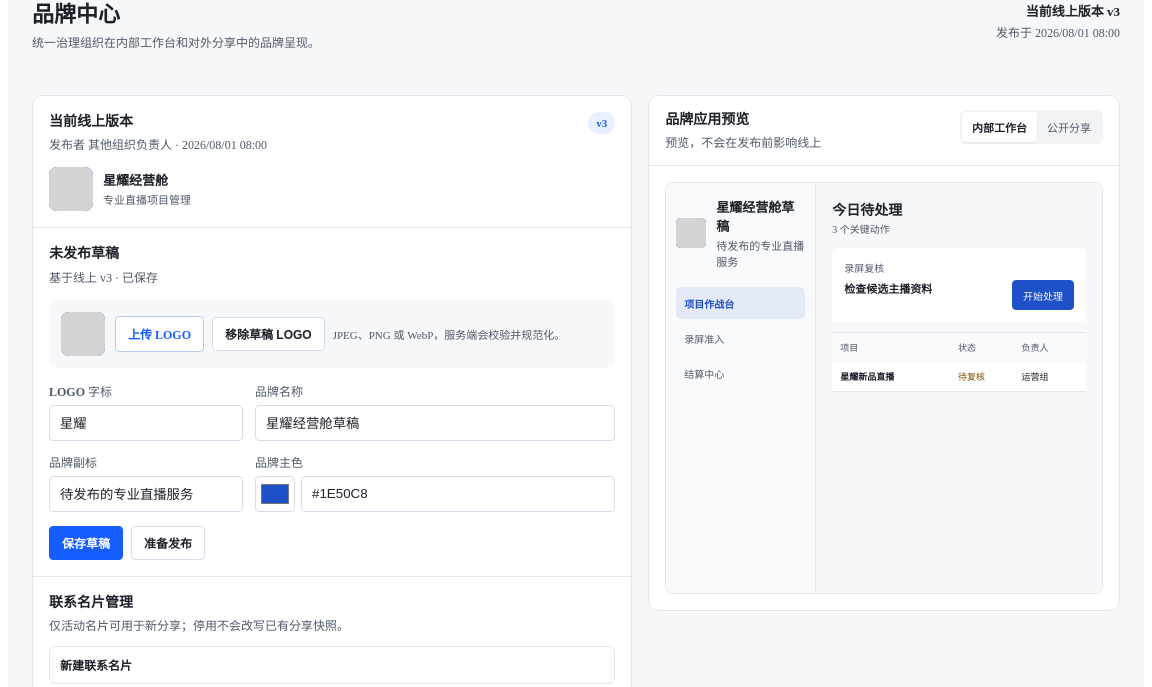
OrganizationBrandCenter › saves the five governed fields and publishes only after the exact inline confirmation
The image size is (1152, 687).
Replace the text in the field labelled "品牌名称" with "已保存草稿": (435, 423) [255,405,615,441]
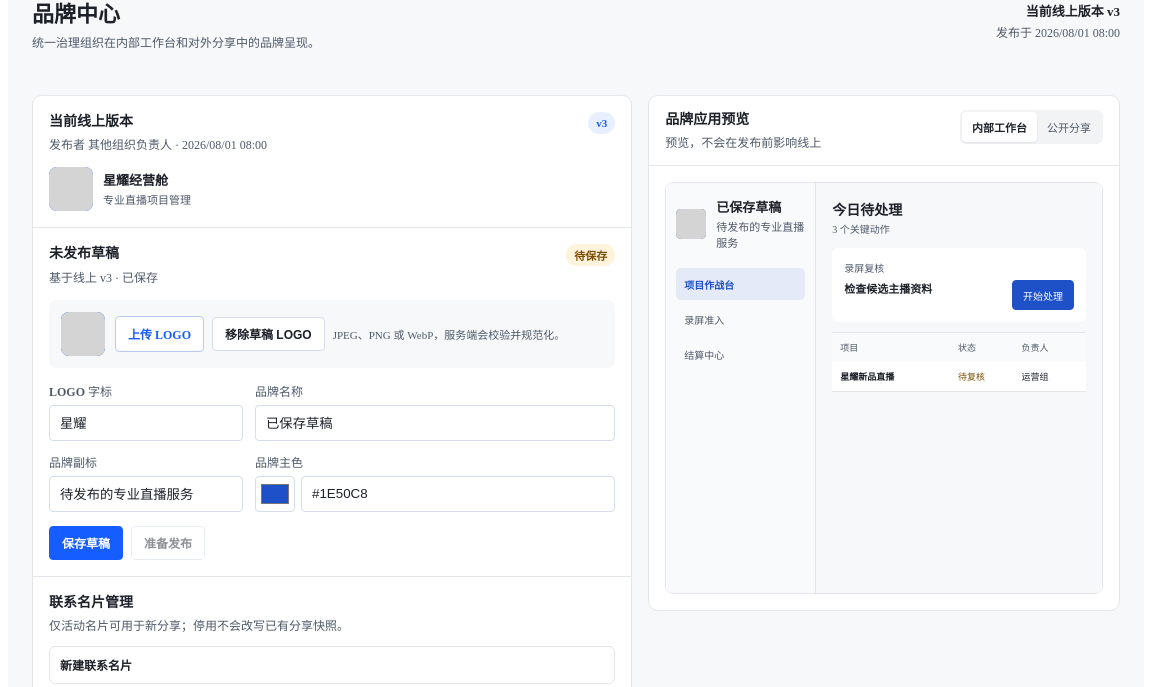
Click the button "保存草稿": (86, 543) [49,526,123,560]
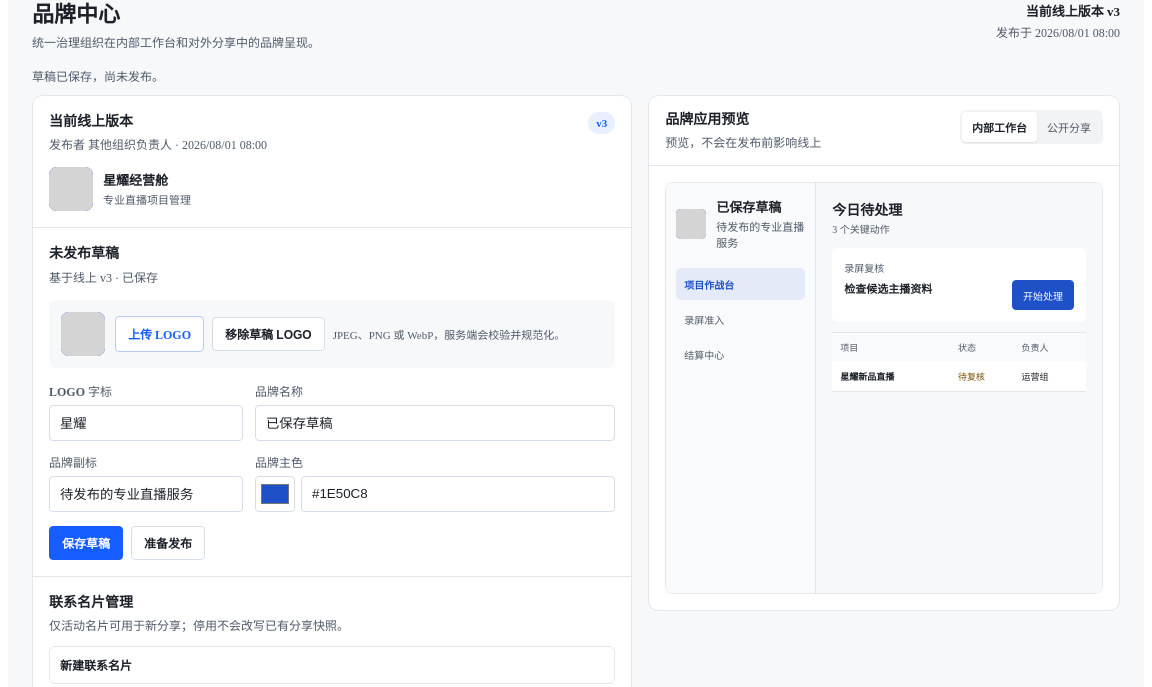
Now the text "草稿已保存，尚未发布。" is shown, box [32,70,164,84]
Click the button "准备发布": (168, 543) [131,526,205,560]
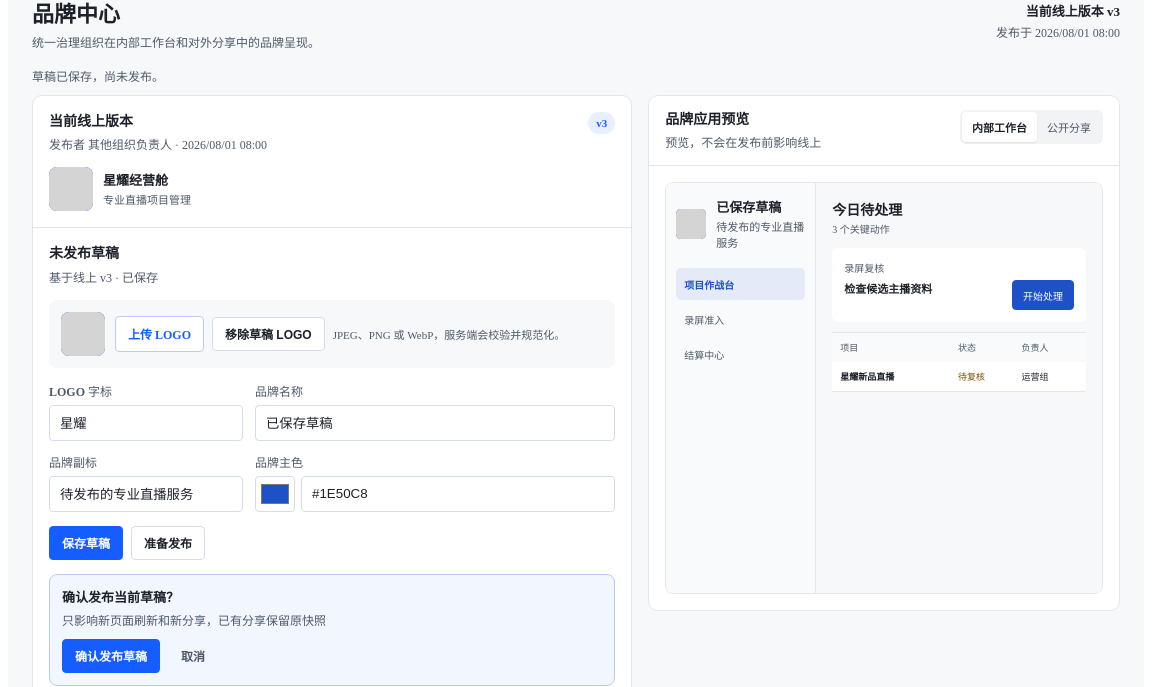
Now the text "只影响新页面刷新和新分享，已有分享保留原快照" is shown, box [62,614,326,628]
Click the button "确认发布草稿": (111, 656) [62,639,160,673]
(page scrolled)
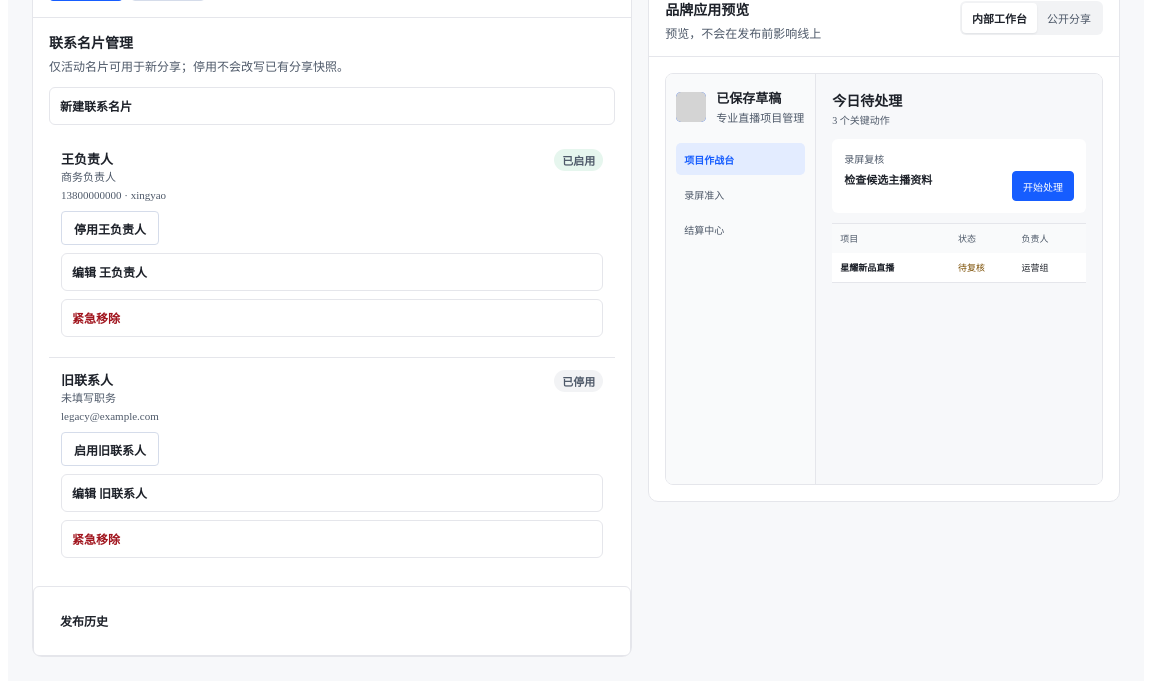
Click the heading "发布历史": (84, 622) [60,615,108,629]
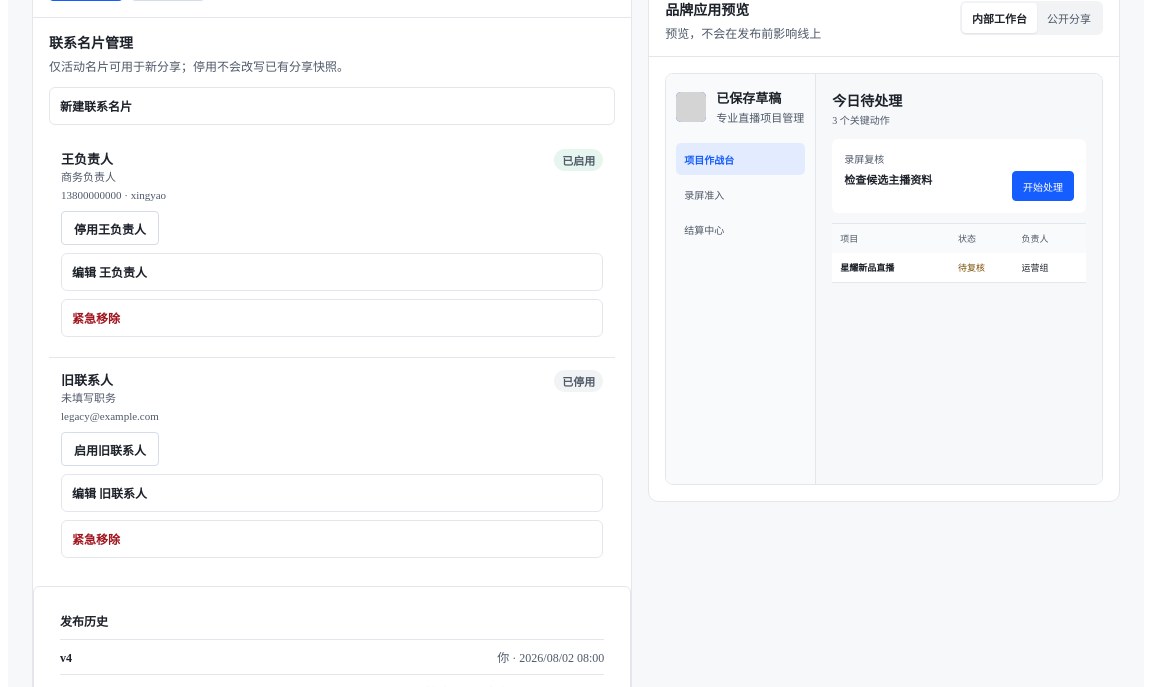
Now the text "v4" is shown, box [60,651,72,666]
Now the text "你 · 2026/08/02 08:00" is shown, box [497,648,604,666]
